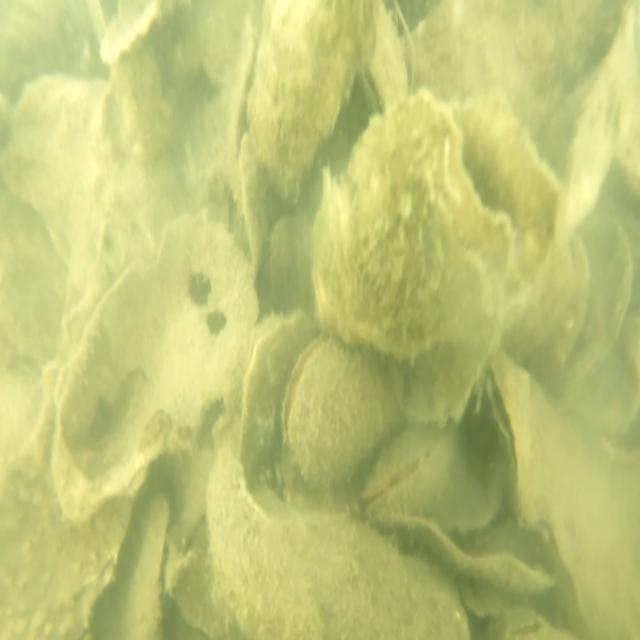Oyster-Closed: (485, 347, 640, 640), (361, 419, 456, 520), (360, 0, 410, 119)
Oyster-Indeterminate: (207, 444, 466, 640), (0, 354, 132, 640), (247, 0, 372, 200)
Oyster-Open: (316, 86, 562, 363), (53, 210, 258, 520), (282, 336, 399, 489), (548, 212, 633, 398)
